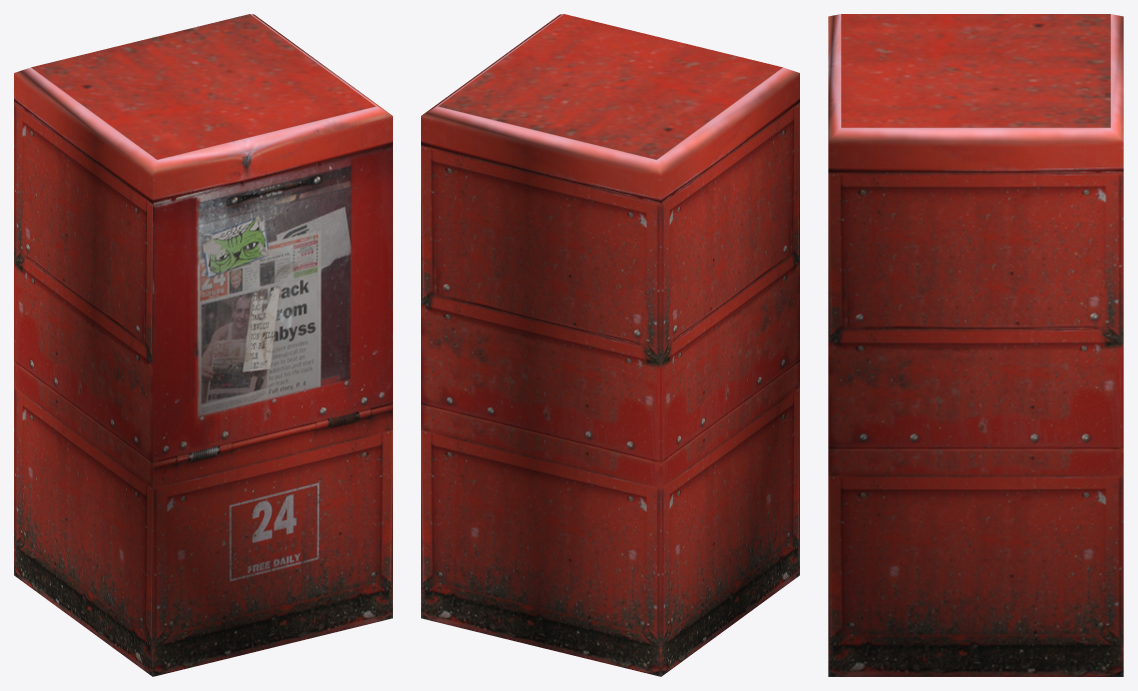
File: newsletter_machine.fbx
3 views of the same model, side by side, from view 1: azimuth 30°, elevation 25°; view 2: azimuth 150°, elevation 25°; view 3: azimuth 270°, elevation 25° (orthographic). The views are drawn at different scales.
Parts seen in each view (by area): view 1: Mesh; view 2: Mesh; view 3: Mesh.
Part boxes in pixels (<box>): Mesh: <box>14,14,392,676</box>; Mesh: <box>421,14,799,676</box>; Mesh: <box>828,14,1123,676</box>.
Bounding box in the file's own units: 64 × 130 × 64.
